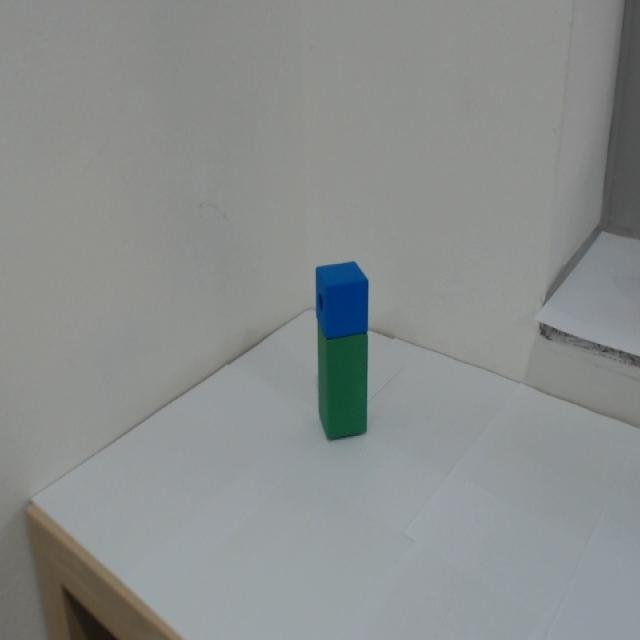cube: (307, 253, 378, 342)
